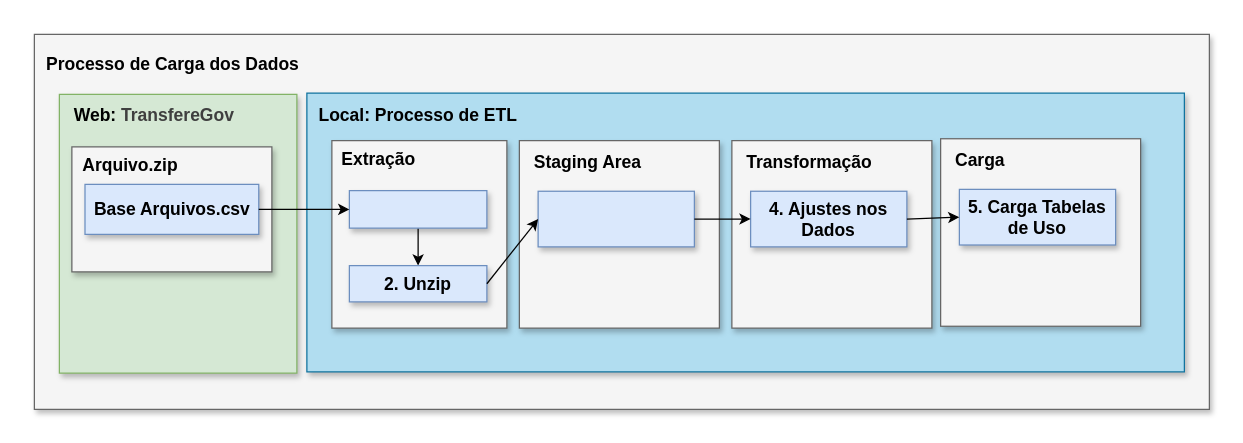
The diagram is 1243 pixels wide and 443 high, and some of its shapes have lost their labels. Each missing label, with the centre of its shape:
1. Download: point (418, 210)
3. Carga Tabelas Stage: point (617, 220)
